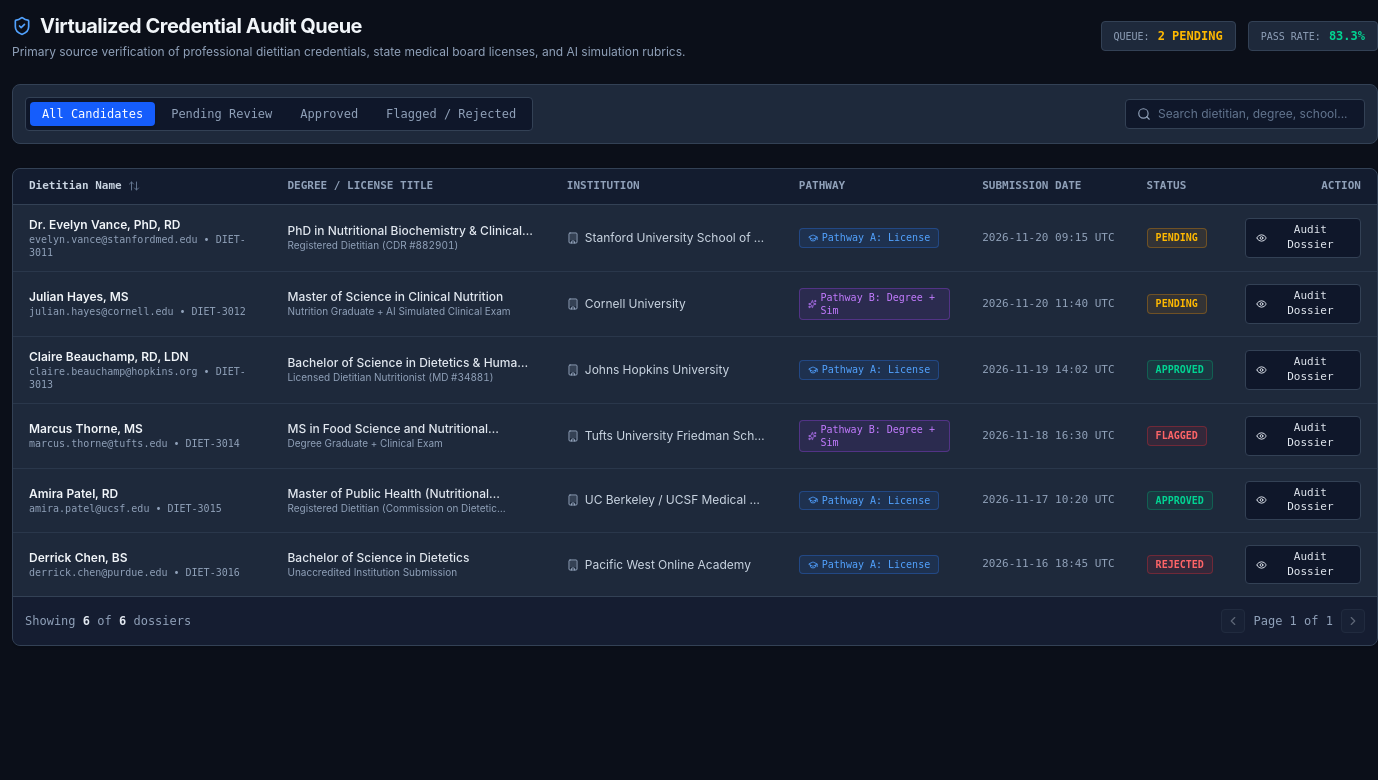
Credential Audit Queue › filters credential table rows by search query
In the field with test id "credentials-search-input": (1245, 114) left=1125, top=99, right=1365, bottom=129, type "Cornell"
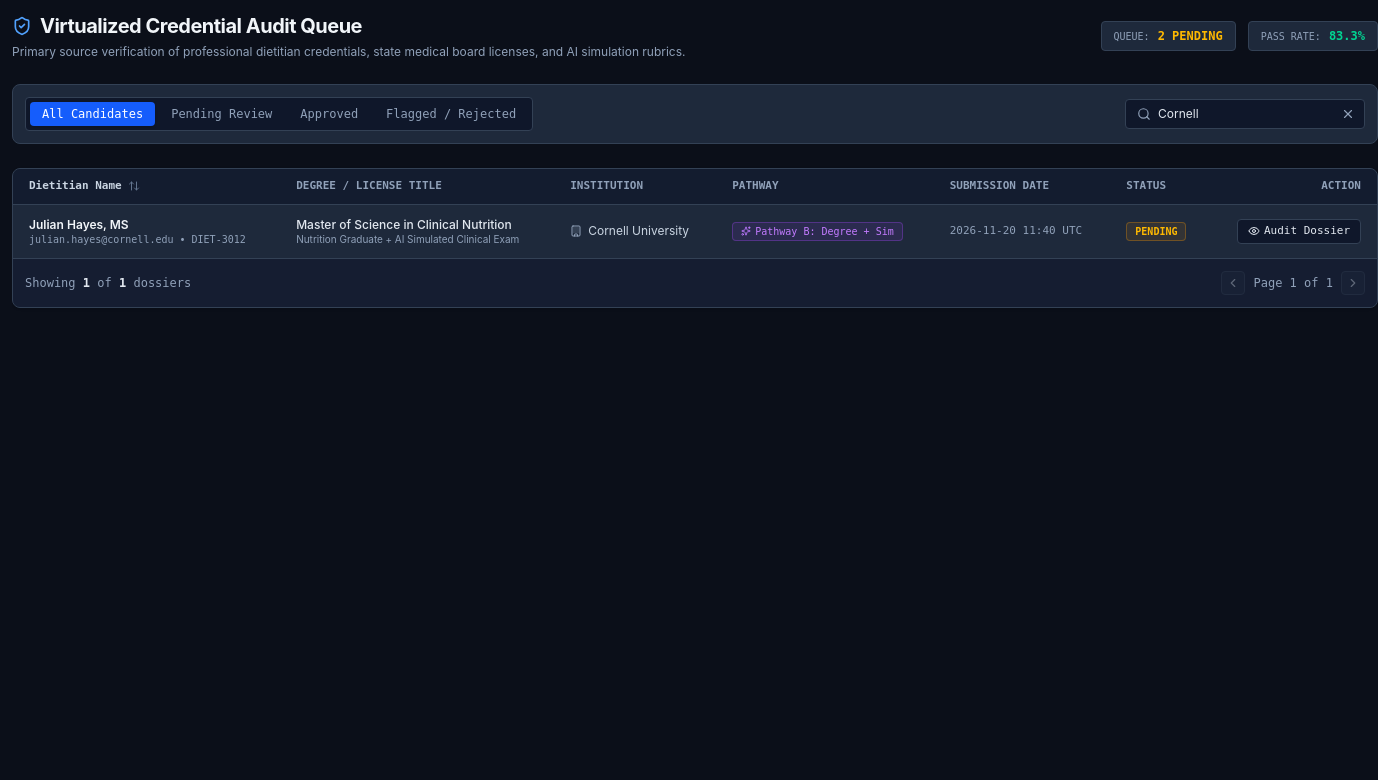
expect the text "Julian Hayes, MS" is shown: met, box left=29, top=217, right=128, bottom=232
expect the text "Dr. Evelyn Vance, PhD, RD" is gone: met
